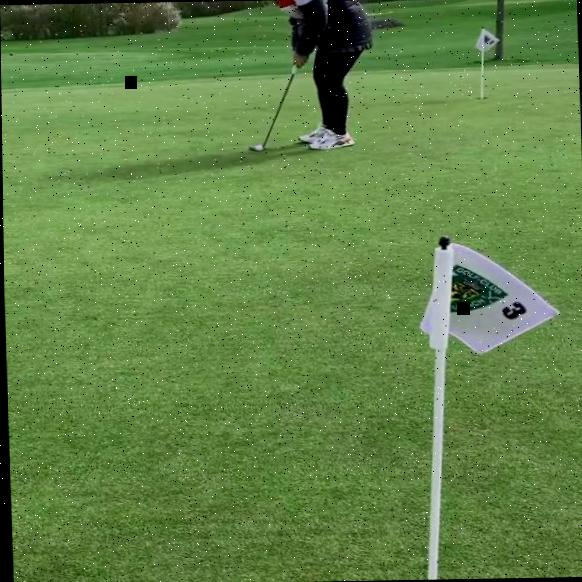ClubHead: (248, 145, 267, 150)
GolfBall: (254, 145, 261, 151)
